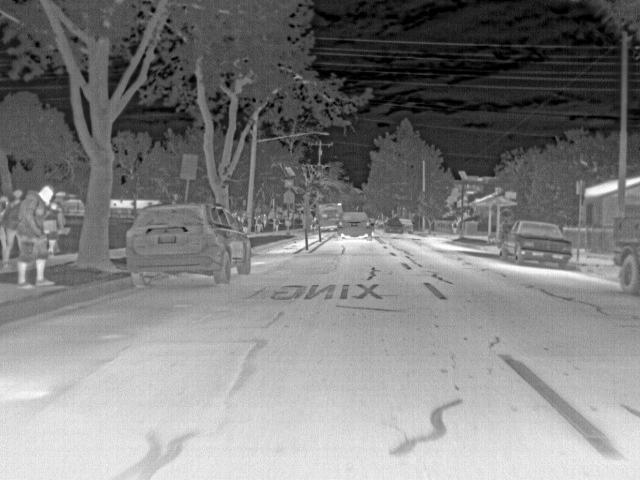car: (126, 202, 250, 289), (499, 218, 573, 268), (612, 216, 639, 294), (339, 210, 374, 240), (384, 218, 403, 236), (373, 220, 385, 230)
person: (16, 179, 55, 289), (8, 186, 26, 268), (43, 203, 62, 255), (1, 195, 9, 266), (255, 214, 262, 234), (261, 213, 268, 228), (311, 216, 318, 230), (274, 214, 280, 228), (453, 218, 459, 232)
